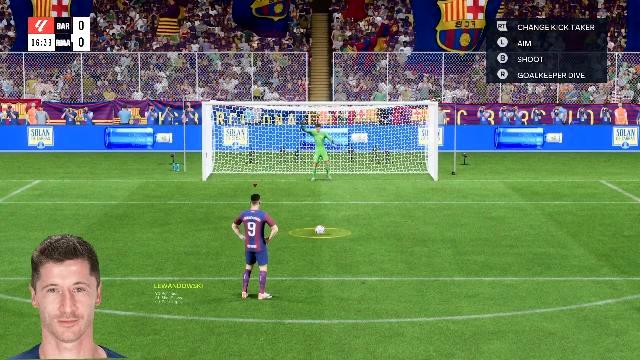bottom-left: (206, 149, 286, 181)
bottom-right: (356, 148, 434, 180)
center-down: (284, 148, 358, 180)
center-up: (290, 107, 352, 147)
circle: (290, 228, 354, 238)
football: (312, 226, 328, 233)
goalkeeper: (300, 122, 342, 180)
player: (228, 195, 280, 300)
top-left: (206, 105, 288, 146)
top-right: (356, 105, 434, 146)
